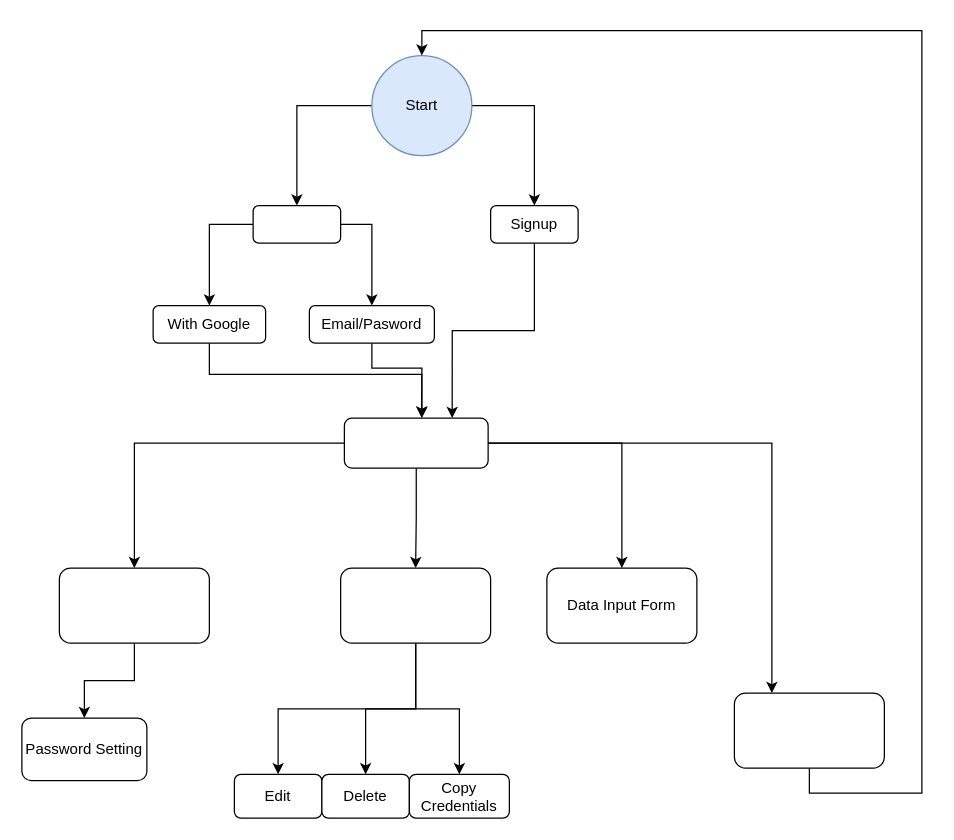
Image size: 954x840. Some labels were removed from this diagram. The centre of each missing label's shape, as x and y in pixels:
Home: point (415, 442)
Login: point (296, 223)
Logout: point (808, 730)
Password Generator: point (133, 605)
Saved Credentials: point (415, 605)
